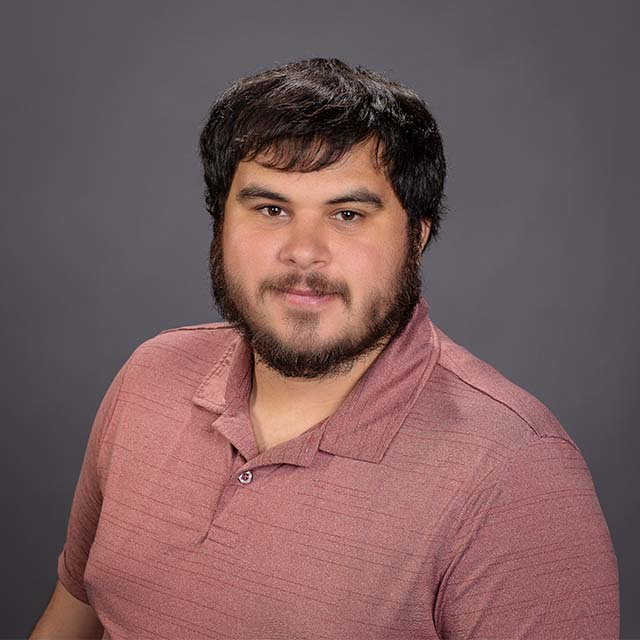human: (211, 126, 416, 359)
